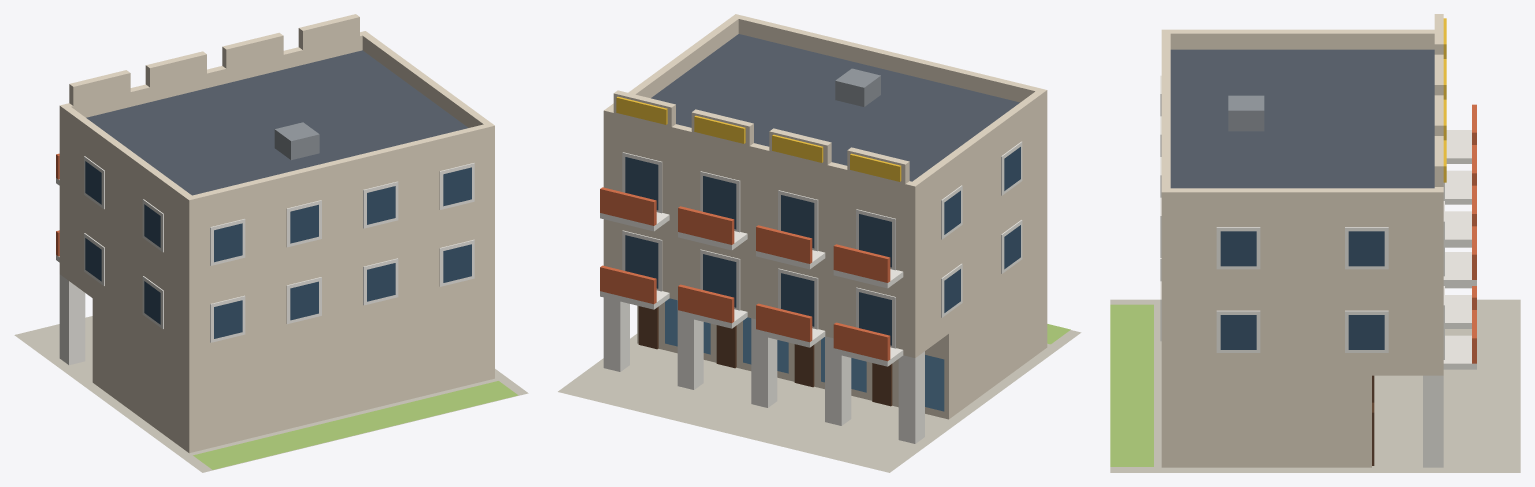
3 renders of one model, left to right at view 1: azimuth 30°, elevation 25°; view 2: azimuth 150°, elevation 25°; view 3: azimuth 270°, elevation 25°, orthographic. The views are drawn at different scales.
Visible parts, largest first — view 1: upper, shops, roof, parapet (×8), window_glass (×12), yard, paving, window_frame (×8), column, ac_unit; view 2: upper, parapet (×16), roof, paving, window_glass (×12), shops, column (×5), sign (×4), storefront (×4), door (×4), window_frame (×6), ac_unit; view 3: upper, roof, shops, paving, parapet (×4), yard, balcony (×6), window_glass (×4), window_frame (×4), column, ac_unit.
Boxes of the visible parts, bbox=[...] form: upper: bbox=[59, 121, 494, 368]; shops: bbox=[92, 294, 494, 453]; roof: bbox=[86, 50, 467, 195]; parapet (×8): bbox=[59, 14, 494, 215]; window_glass (×12): bbox=[85, 161, 471, 338]; yard: bbox=[193, 381, 518, 469]; paving: bbox=[14, 316, 528, 472]; window_frame (×8): bbox=[210, 163, 474, 342]; column: bbox=[59, 274, 85, 365]; ac_unit: bbox=[274, 122, 319, 160]; upper: bbox=[603, 105, 1047, 357]; parapet (×16): bbox=[600, 14, 1047, 361]; roof: bbox=[651, 34, 1019, 181]; paving: bbox=[558, 330, 1081, 472]; window_glass (×12): bbox=[625, 147, 1020, 345]; shops: bbox=[637, 262, 1047, 419]; column (×5): bbox=[603, 297, 924, 443]; sign (×4): bbox=[616, 96, 901, 181]; storefront (×4): bbox=[665, 298, 944, 411]; door (×4): bbox=[638, 306, 892, 406]; window_frame (×6): bbox=[622, 152, 818, 329]; ac_unit: bbox=[835, 68, 880, 106]; upper: bbox=[1161, 208, 1443, 375]; roof: bbox=[1170, 49, 1434, 188]; shops: bbox=[1161, 375, 1371, 467]; paving: bbox=[1110, 299, 1520, 472]; parapet (×4): bbox=[1161, 29, 1443, 208]; yard: bbox=[1110, 304, 1153, 466]; balcony (×6): bbox=[1443, 130, 1476, 369]; window_glass (×4): bbox=[1220, 231, 1384, 349]; window_frame (×4): bbox=[1216, 227, 1388, 352]; column: bbox=[1423, 375, 1443, 467]; ac_unit: bbox=[1228, 95, 1264, 131].
Size of the model in its own units: 16 by 12.8 by 16.
